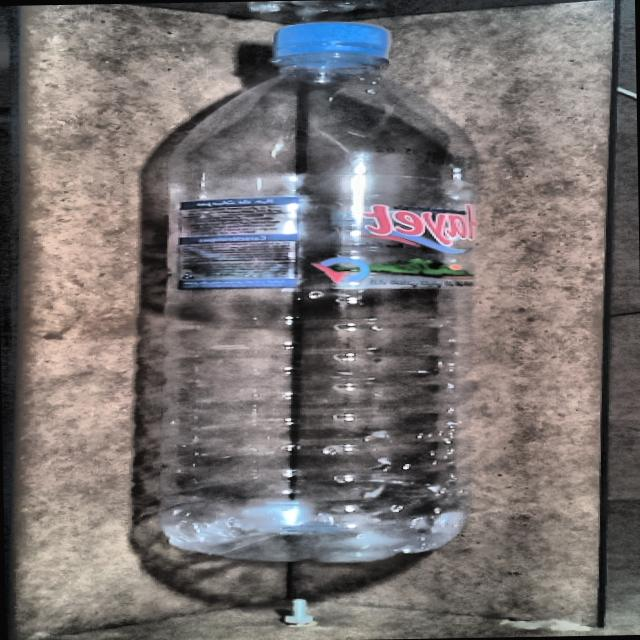plastic bottle: (159, 21, 476, 562)
